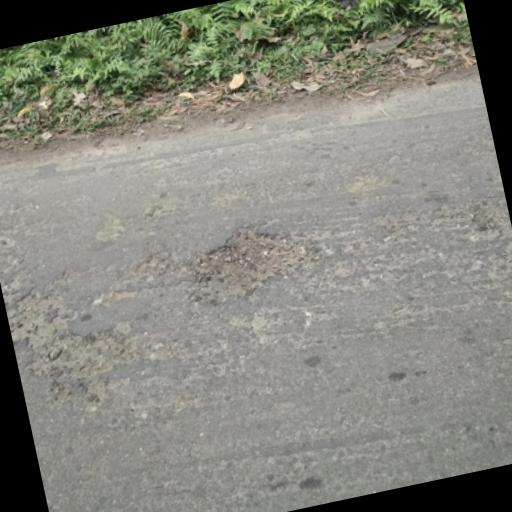pothole: (179, 210, 328, 310), (20, 320, 138, 398), (3, 286, 65, 342)
